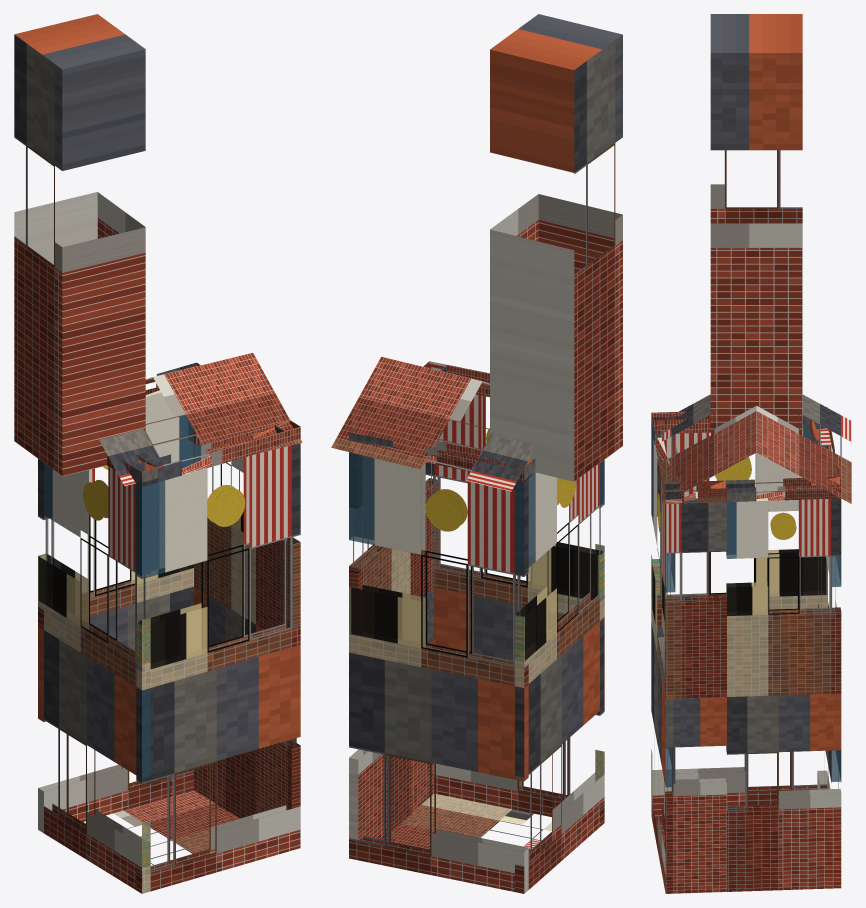
The picture shows the model from 3 angles, left to right: view 1: azimuth 30°, elevation 25°; view 2: azimuth 150°, elevation 25°; view 3: azimuth 270°, elevation 25°; orthographic projection. The views are drawn at different scales.
Visible parts, largest first — view 1: 534916387__chimney_0_xb, 534916387__wall_1_xb, 534916387__wall_0_xb, 534916387__wall_4_xb, 534916387_roof_-1_xb, 534916387__wall_3_xb, 534916387__wall_2_xb, 534916387__wall_0_xf, 534916387__wall_1_xf, 534916387__base, 534916387__cornice_1, 534916387__wall_4_xf; view 2: 534916387__chimney_0_xb, 534916387__wall_4_xb, 534916387__wall_0_xb, 534916387__wall_1_xb, 534916387_roof_1_xb, 534916387__wall_3_xb, 534916387__wall_4_xf, 534916387__base, 534916387__wall_0_xf, 534916387__wall_1_xf, 534916387__wall_2_xb, 534916387__cornice_4; view 3: 534916387__wall_3_xb, 534916387__chimney_0_xb, 534916387__wall_2_xb, 534916387__wall_0_xb, 534916387_roof_1_xb, 534916387__wall_1_xb, 534916387_roof_-1_xb, 534916387__wall_0_xf, 534916387__cornice_3, 534916387__wall_3_xf, 534916387__wall_4_xb, 534916387__wall_1_xf (+4 smaller).
Part boxes in pixels (x1,y1,x2,y2): 534916387__chimney_0_xb: [14, 14, 145, 476]; 534916387__wall_1_xb: [136, 443, 300, 893]; 534916387__wall_0_xb: [38, 463, 150, 893]; 534916387__wall_4_xb: [38, 390, 200, 833]; 534916387_roof_-1_xb: [99, 352, 302, 485]; 534916387__wall_3_xb: [188, 421, 255, 818]; 534916387__wall_2_xb: [256, 537, 300, 813]; 534916387__wall_0_xf: [38, 463, 150, 867]; 534916387__wall_1_xf: [136, 481, 206, 670]; 534916387__base: [83, 790, 239, 864]; 534916387__cornice_1: [131, 420, 300, 486]; 534916387__wall_4_xf: [131, 415, 200, 583]; 534916387__chimney_0_xb: [490, 14, 622, 481]; 534916387__wall_4_xb: [349, 452, 528, 893]; 534916387__wall_0_xb: [515, 460, 604, 893]; 534916387__wall_1_xb: [425, 394, 604, 826]; 534916387_roof_1_xb: [331, 356, 536, 491]; 534916387__wall_3_xb: [349, 452, 410, 840]; 534916387__wall_4_xf: [349, 452, 467, 647]; 534916387__base: [382, 793, 551, 851]; 534916387__wall_0_xf: [515, 473, 603, 780]; 534916387__wall_1_xf: [528, 461, 604, 601]; 534916387__wall_2_xb: [410, 463, 438, 813]; 534916387__cornice_4: [349, 426, 532, 481]; 534916387__wall_3_xb: [726, 498, 841, 891]; 534916387__chimney_0_xb: [710, 14, 802, 435]; 534916387__wall_2_xb: [665, 499, 726, 893]; 534916387__wall_0_xb: [651, 427, 827, 820]; 534916387_roof_1_xb: [756, 394, 851, 503]; 534916387__wall_1_xb: [651, 432, 675, 892]; 534916387_roof_-1_xb: [661, 394, 756, 503]; 534916387__wall_0_xf: [651, 429, 827, 784]; 534916387__cornice_3: [725, 476, 841, 502]; 534916387__wall_3_xf: [726, 502, 777, 753]; 534916387__wall_4_xb: [817, 428, 841, 789]; 534916387__wall_1_xf: [651, 434, 674, 787].
Bounding box in the file's own units: 0.3867 × 1.4 × 0.3257.
Materials: 1 (1 with a texture image).
